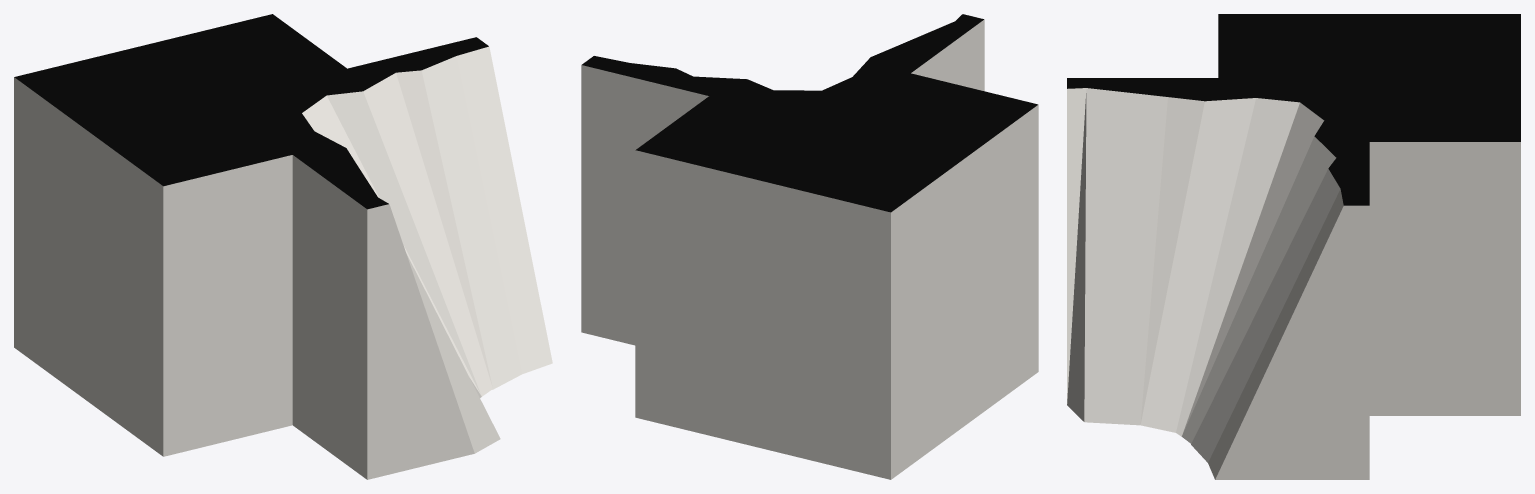
File: Model_Frost_Slope_4S_1PTR.fbx
3 renders of one model, left to right at view 1: azimuth 30°, elevation 25°; view 2: azimuth 150°, elevation 25°; view 3: azimuth 270°, elevation 25°, orthographic. The views are drawn at different scales.
Parts seen in each view (by area): view 1: Model_Frost_Obstacle3; view 2: Model_Frost_Obstacle3; view 3: Model_Frost_Obstacle3.
Boxes of the visible parts, x1,y1,x2,y2 form: Model_Frost_Obstacle3: [14, 14, 552, 479]; Model_Frost_Obstacle3: [581, 14, 1038, 479]; Model_Frost_Obstacle3: [1067, 14, 1520, 479].
Size of the model in its own units: 300 by 200 by 300.
Materials: 2 (1 with a texture image).
